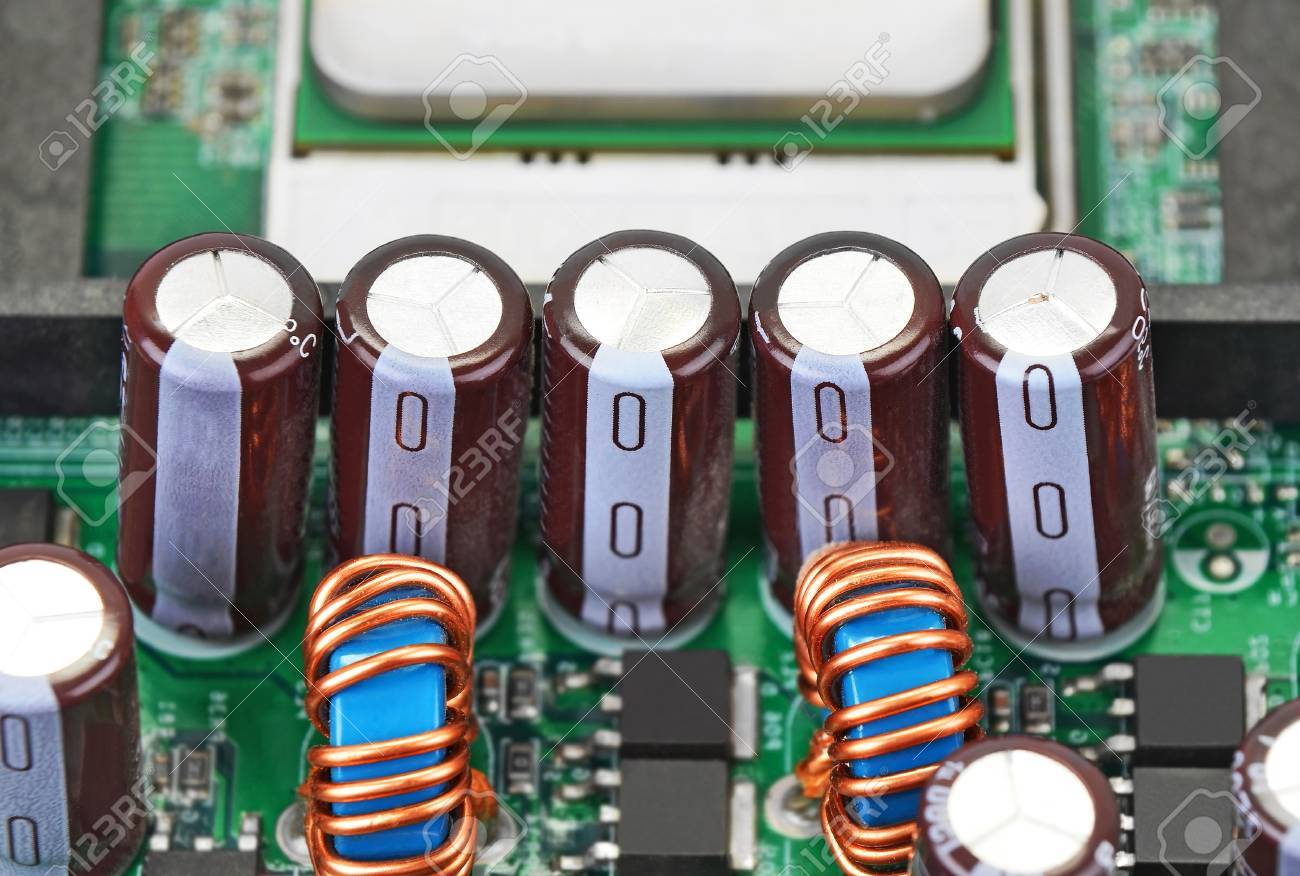capacitor: (944, 186, 1197, 668), (534, 200, 752, 677), (114, 204, 326, 682), (741, 196, 967, 608), (325, 188, 529, 629)
